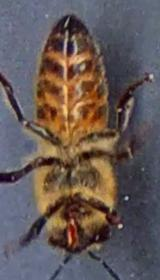varroa_mite: (33, 99, 56, 122)
